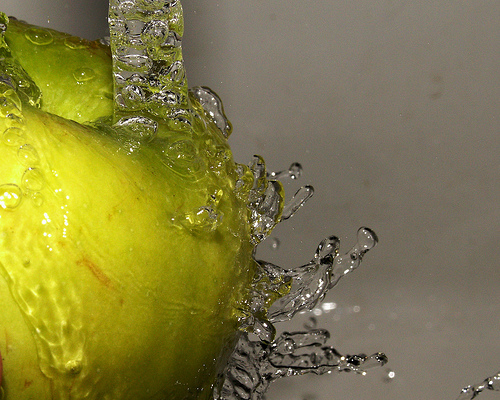apple: (0, 13, 256, 399)
